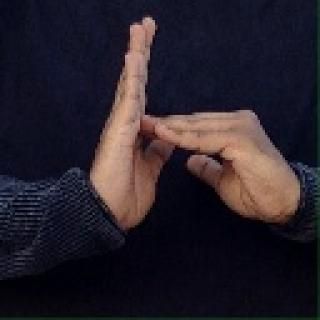Z: (97, 0, 267, 231)
